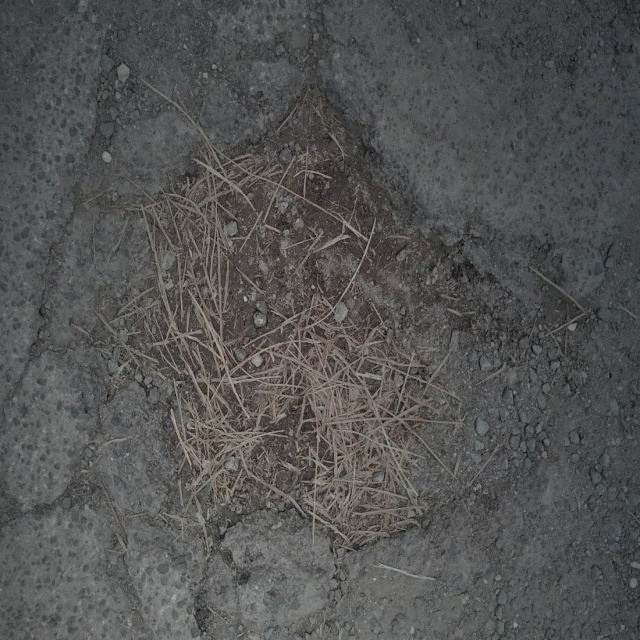pothole: (119, 67, 551, 552)
